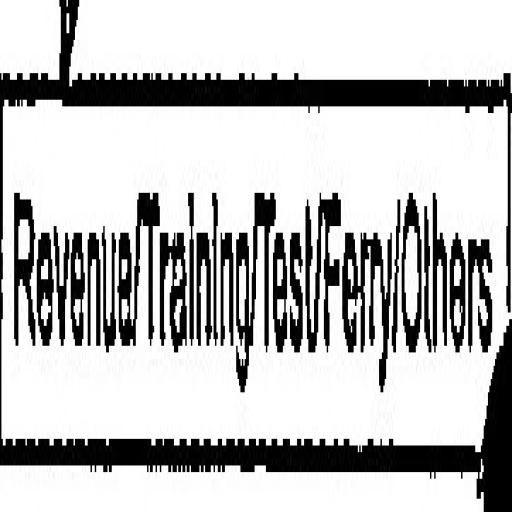check: (0, 0, 137, 498)
